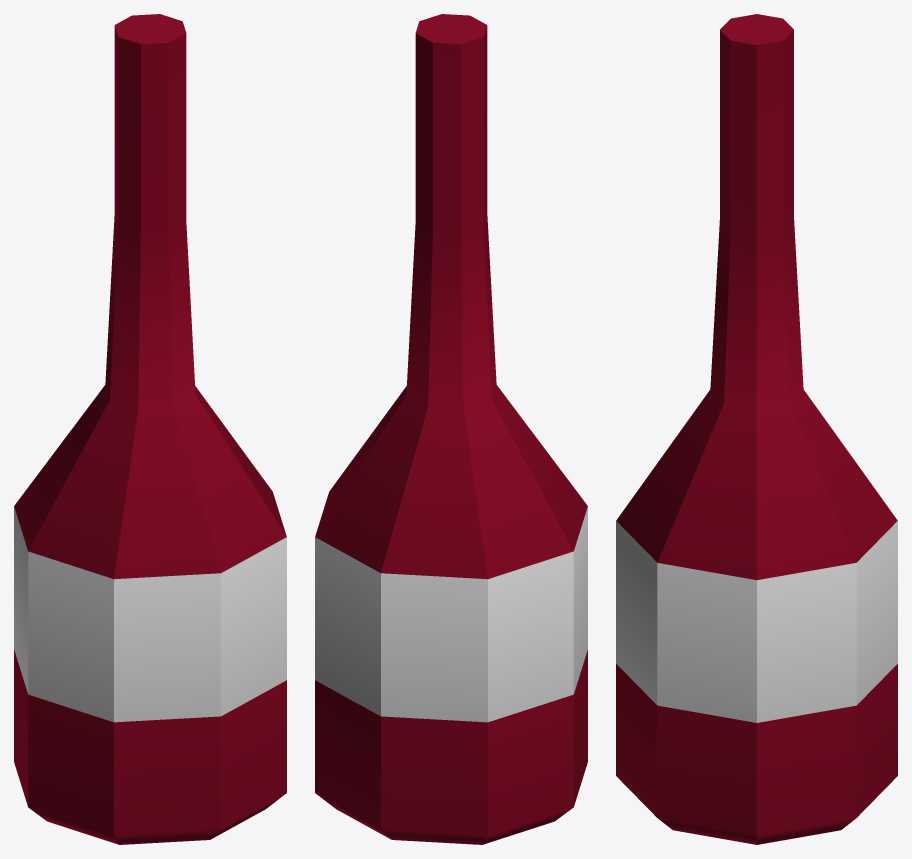
The model's file is BottleB.fbx.
3 renders of one model, left to right at view 1: azimuth 30°, elevation 25°; view 2: azimuth 150°, elevation 25°; view 3: azimuth 270°, elevation 25°, orthographic.
Parts seen in each view (by area): view 1: pCylinder2; view 2: pCylinder2; view 3: pCylinder2.
Boxes of the visible parts, x1,y1,x2,y2 form: pCylinder2: (14,14,286,844); pCylinder2: (315,14,587,844); pCylinder2: (616,14,897,844).
Bounding box in the file's own units: 7.69 × 23.03 × 7.69.
